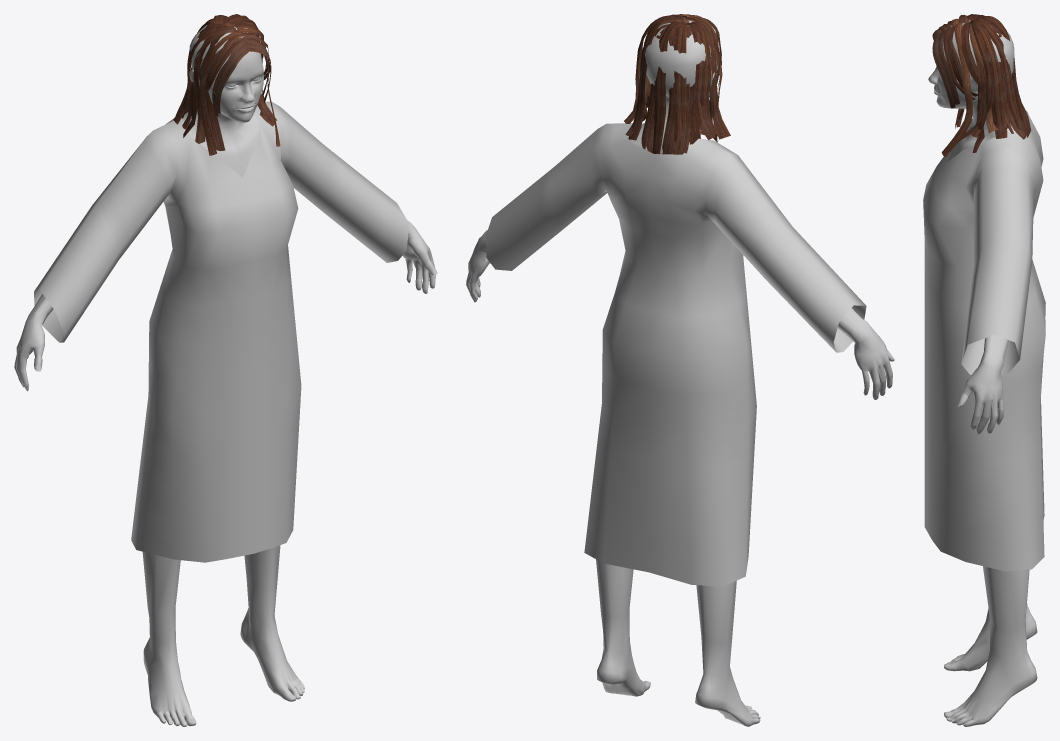
Rendered from girl2.FBX.
3 renders of one model, left to right at view 1: azimuth 30°, elevation 25°; view 2: azimuth 150°, elevation 25°; view 3: azimuth 270°, elevation 25°, orthographic. The views are drawn at different scales.
Parts seen in each view (by area): view 1: Girl; view 2: Girl; view 3: Girl.
Part boxes in pixels (bbox=[...]): Girl: bbox=[14, 14, 437, 726]; Girl: bbox=[466, 14, 894, 726]; Girl: bbox=[923, 14, 1045, 726].
Size of the model in its own units: 5.06 by 7.95 by 1.31.
